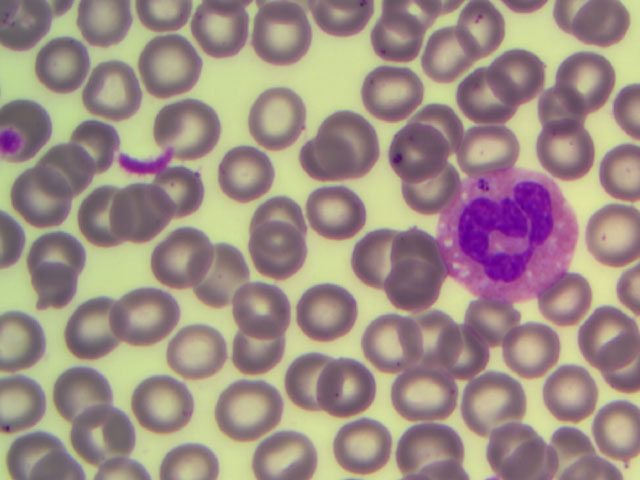Platelets: (117, 146, 173, 176)
RBC: (513, 418, 574, 480), (259, 418, 320, 480), (7, 418, 68, 480), (30, 35, 91, 96), (86, 62, 147, 123), (140, 29, 201, 90), (189, 2, 250, 63), (254, 3, 315, 64), (246, 87, 307, 148), (216, 146, 277, 207), (163, 98, 224, 159), (60, 107, 121, 168), (51, 129, 112, 190), (25, 158, 86, 219), (22, 218, 83, 279), (24, 266, 85, 327), (2, 310, 63, 371), (61, 302, 122, 363), (118, 292, 179, 353), (145, 227, 206, 288), (113, 182, 174, 243), (80, 184, 141, 245), (144, 153, 205, 214), (191, 241, 252, 302), (220, 270, 281, 331), (243, 232, 304, 293), (242, 189, 303, 250), (298, 184, 359, 245), (294, 132, 355, 193), (308, 105, 369, 166), (360, 63, 421, 124), (367, 6, 428, 67), (429, 20, 490, 81), (459, 61, 520, 122), (504, 44, 565, 105), (529, 85, 590, 146), (567, 46, 628, 107), (548, 120, 609, 181), (474, 122, 535, 183), (385, 122, 446, 183), (398, 97, 459, 158), (400, 158, 461, 219), (353, 211, 414, 272), (377, 226, 438, 287), (387, 262, 448, 323), (363, 306, 424, 367), (398, 306, 459, 367), (435, 320, 496, 381), (467, 288, 528, 349), (501, 322, 562, 383), (531, 285, 592, 346), (575, 299, 636, 360), (538, 362, 599, 423), (579, 399, 640, 460), (543, 410, 604, 471), (480, 417, 541, 478), (459, 372, 520, 433), (393, 362, 454, 423), (405, 416, 466, 477), (331, 414, 392, 475), (321, 361, 382, 422), (286, 347, 347, 408), (299, 281, 360, 342), (220, 390, 281, 451), (226, 323, 287, 384), (168, 321, 229, 382), (134, 380, 195, 441), (69, 400, 130, 461), (39, 357, 100, 418), (451, 1, 512, 61)
WBC: (440, 166, 577, 302)
